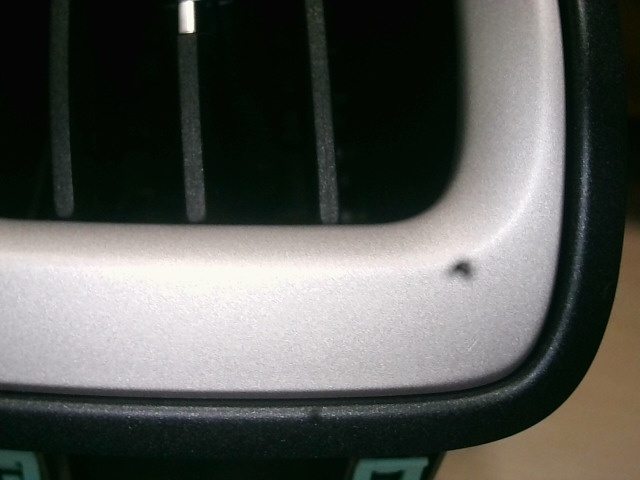NG: (463, 324, 488, 359)
